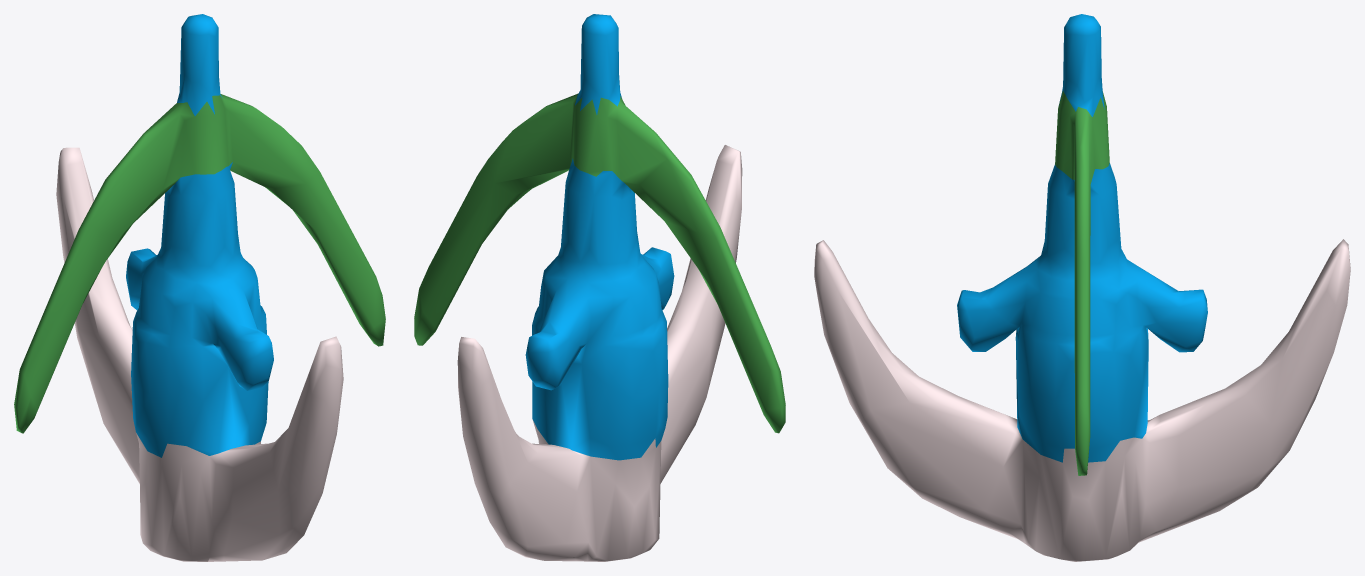
File: totem_02_col.fbx
3 renders of one model, left to right at view 1: azimuth 30°, elevation 25°; view 2: azimuth 150°, elevation 25°; view 3: azimuth 270°, elevation 25°, orthographic.
Parts seen in each view (by area): view 1: pCone1; view 2: pCone1; view 3: pCone1.
Part boxes in pixels (x1,y1,x2,y2): pCone1: (14, 14, 385, 561); pCone1: (414, 14, 785, 561); pCone1: (814, 14, 1350, 561).
Bounding box in the file's own units: 423 × 575 × 535.
1 material, 1 textured.
